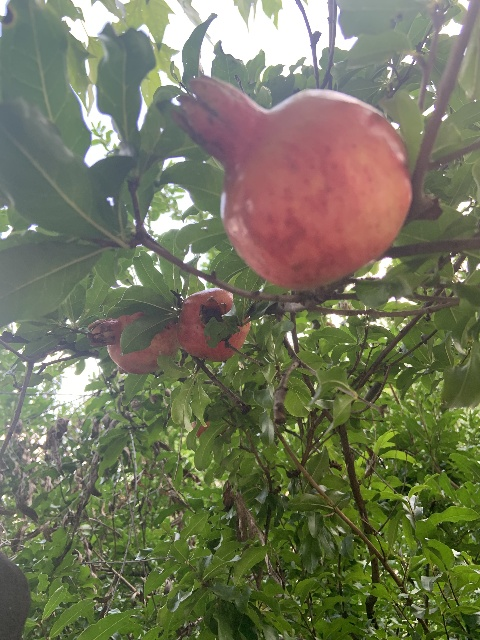ripe: (170, 76, 412, 287), (86, 311, 178, 374), (178, 287, 251, 361)
